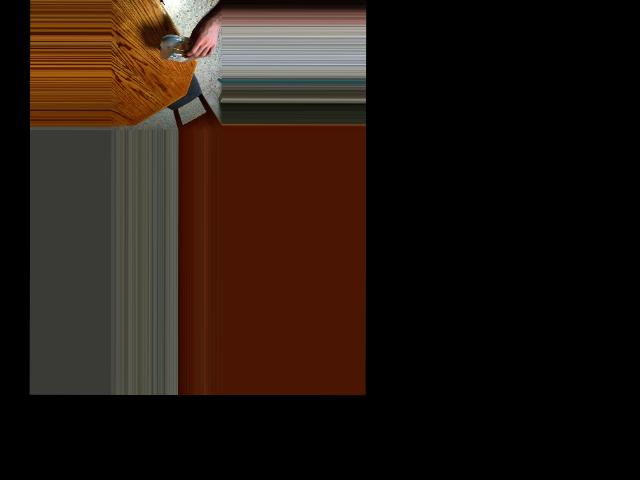cheese: (165, 30, 207, 65)
